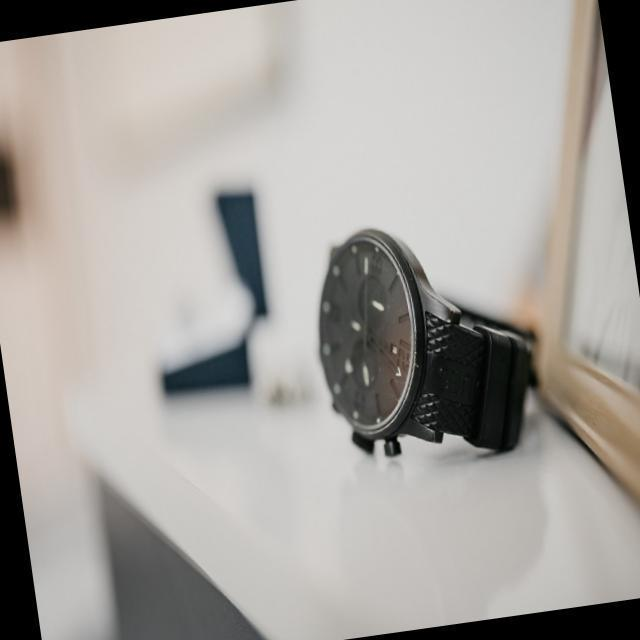Watch: (316, 224, 541, 466)
